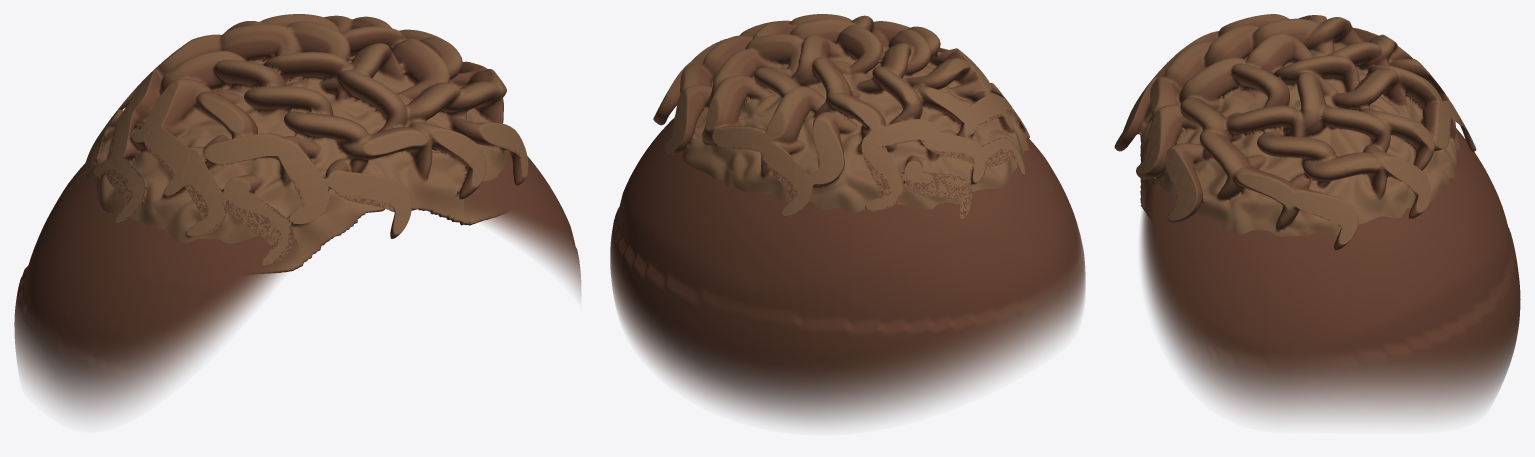
The model's file is Highlights-6bb778cf5cdc252-hair.glb.
3 renders of one model, left to right at view 1: azimuth 30°, elevation 25°; view 2: azimuth 150°, elevation 25°; view 3: azimuth 270°, elevation 25°, orthographic. The views are drawn at different scales.
Visible parts, largest first — view 1: 226 hair / Hair252 / sculpted curl groups.001, 226 hair / Hair252 / curly close fade coverage.001; view 2: 226 hair / Hair252 / curly close fade coverage.001, 226 hair / Hair252 / sculpted curl groups.001; view 3: 226 hair / Hair252 / curly close fade coverage.001, 226 hair / Hair252 / sculpted curl groups.001.
Part boxes in pixels (left/top/right/bottom): 226 hair / Hair252 / sculpted curl groups.001: left=71, top=14, right=528, bottom=273; 226 hair / Hair252 / curly close fade coverage.001: left=14, top=152, right=580, bottom=418; 226 hair / Hair252 / curly close fade coverage.001: left=610, top=118, right=1085, bottom=425; 226 hair / Hair252 / sculpted curl groups.001: left=653, top=14, right=1029, bottom=219; 226 hair / Hair252 / curly close fade coverage.001: left=1140, top=128, right=1520, bottom=420; 226 hair / Hair252 / sculpted curl groups.001: left=1114, top=14, right=1476, bottom=250.
Size of the model in its own units: 0.976 by 0.7233 by 0.7553.
Materials: 2 (2 with a texture image).
